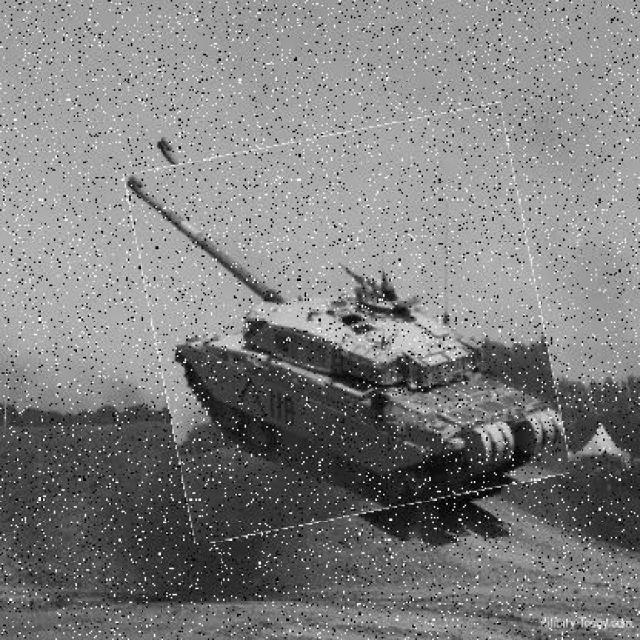Tank: (140, 120, 557, 531)
